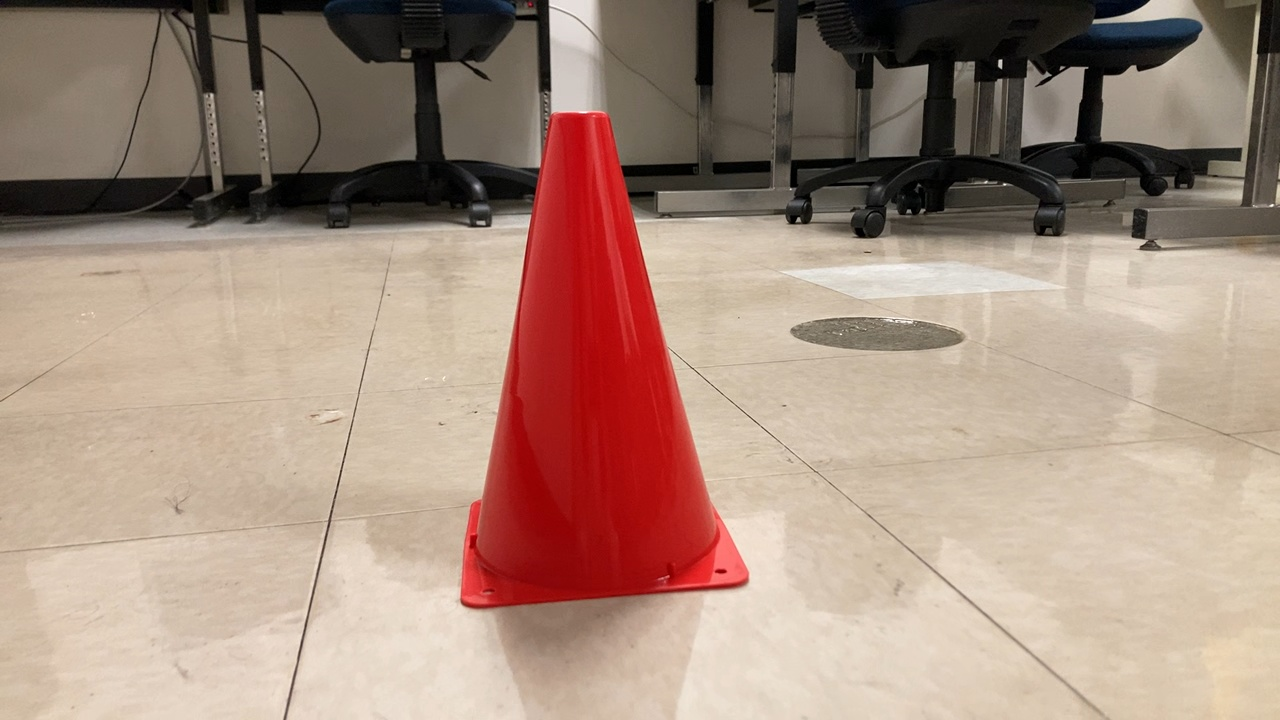red_cone: (413, 105, 771, 614)
